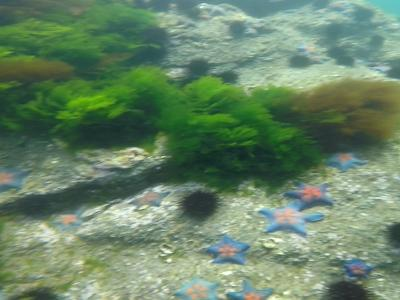scallop: (159, 241, 179, 256)
urchin: (184, 188, 215, 218), (188, 56, 212, 79), (332, 281, 368, 296), (291, 54, 310, 67), (222, 70, 236, 80)
